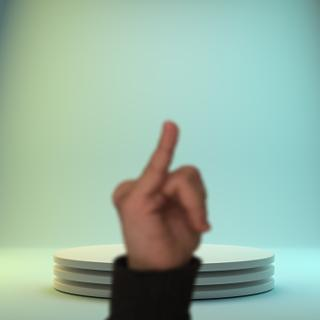HAVE: (110, 112, 227, 279)
